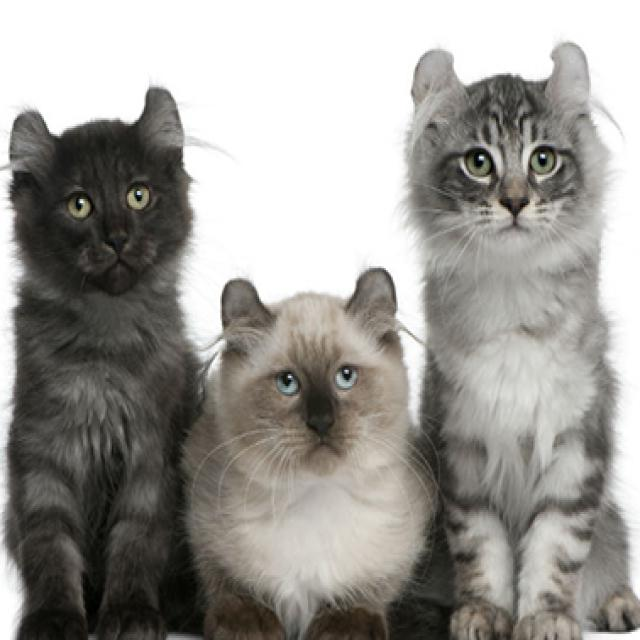American Curl: (398, 32, 640, 640), (0, 81, 201, 639), (176, 260, 439, 640)
